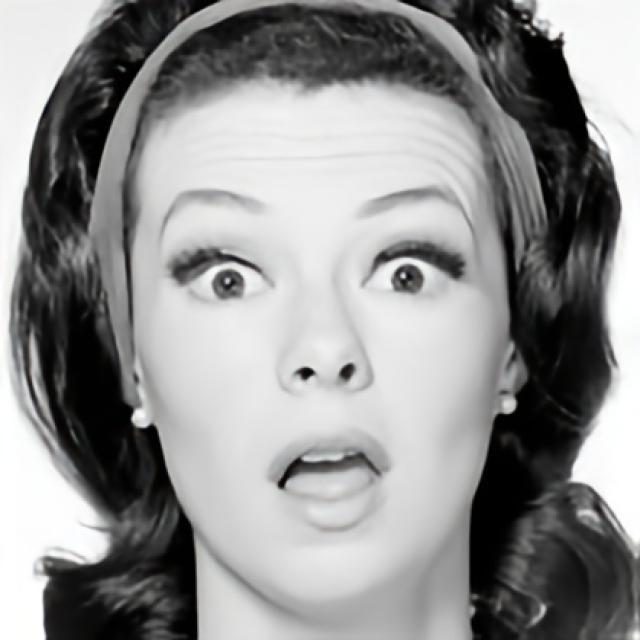fear: (133, 73, 504, 612)
